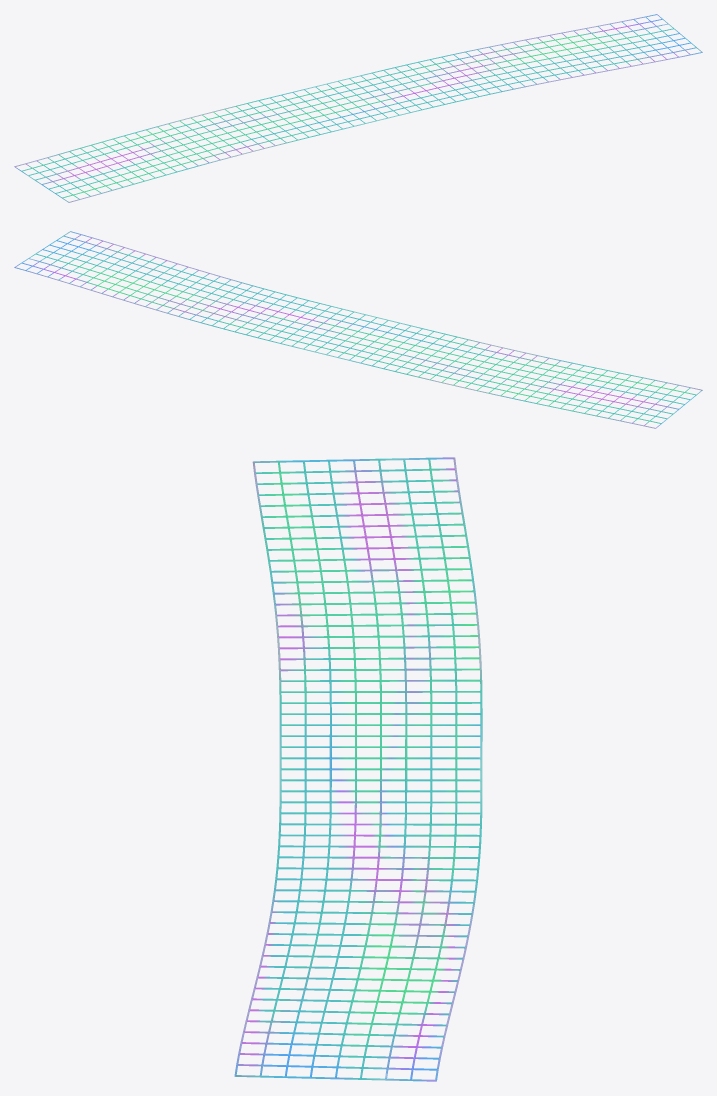
Rendered from reticle.glb.
The picture shows the model from 3 angles, top to bottom: view 1: azimuth 30°, elevation 25°; view 2: azimuth 150°, elevation 25°; view 3: azimuth 270°, elevation 25°; orthographic projection. The views are drawn at different scales.
Visible parts, largest first — view 1: reticle; view 2: reticle; view 3: reticle.
Part boxes in pixels (box(x1,y1,x2,y2)): reticle: box(14, 14, 702, 202); reticle: box(14, 231, 702, 428); reticle: box(234, 457, 482, 1081).
Bounding box in the file's own units: 54.83 × 0.077 × 9.22.
Materials: 1 (1 with a texture image).
